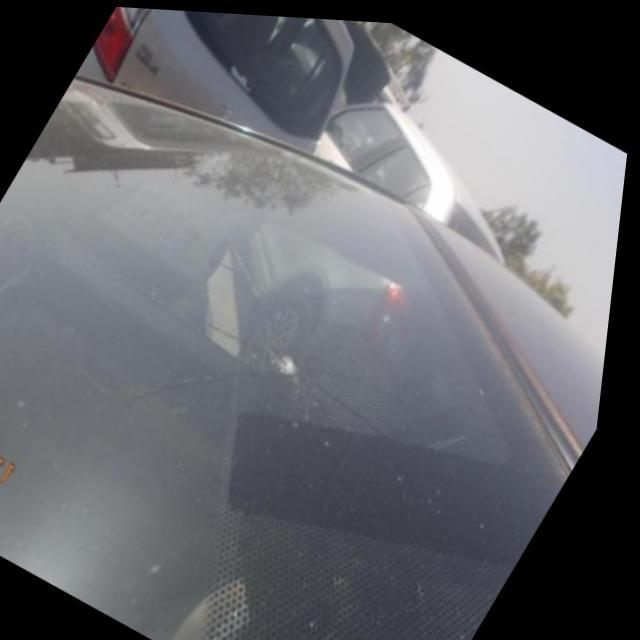glass shatter: (232, 314, 340, 406)
